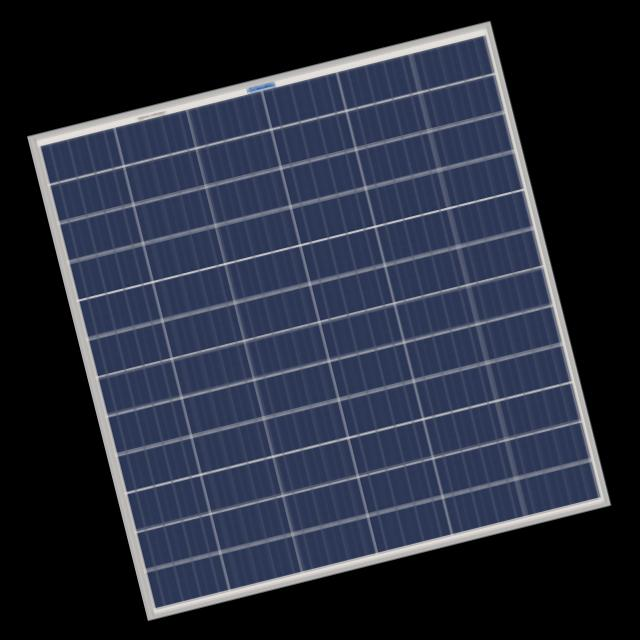no faulty: (32, 38, 596, 613)
